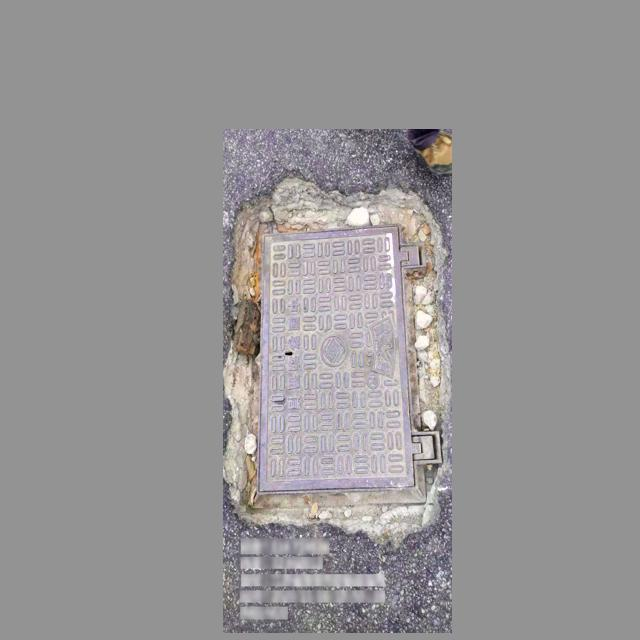circle: (234, 202, 444, 526)
